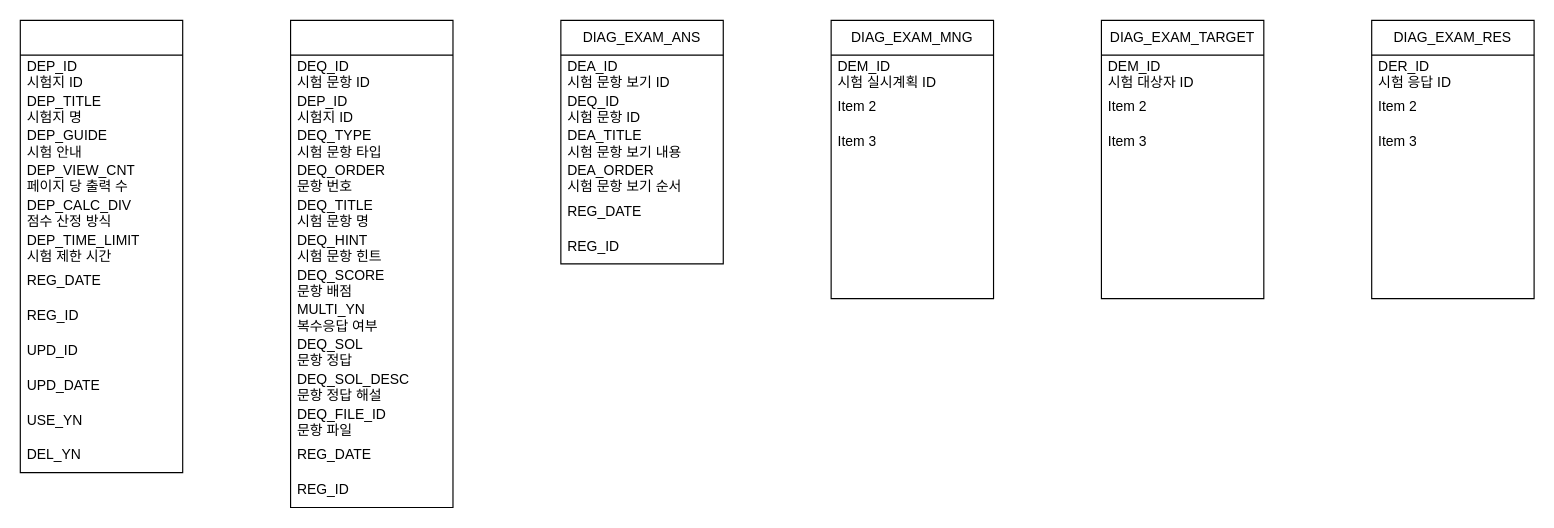
Image size: 1554x528. Some labels were removed from this diagram. Each missing label, with the box of its shape:
DIAG_EXAM_PAPER: (19, 19, 183, 473)
DIAG_EXAM_QUS: (289, 19, 453, 507)
